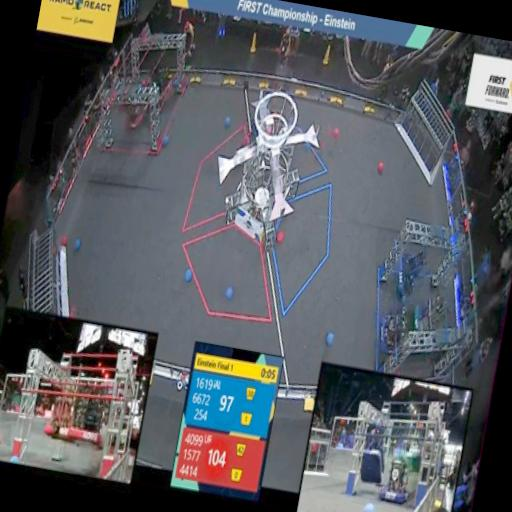robot: (386, 230, 432, 304), (406, 289, 456, 356), (136, 49, 178, 109), (372, 298, 410, 364), (118, 79, 149, 140)
